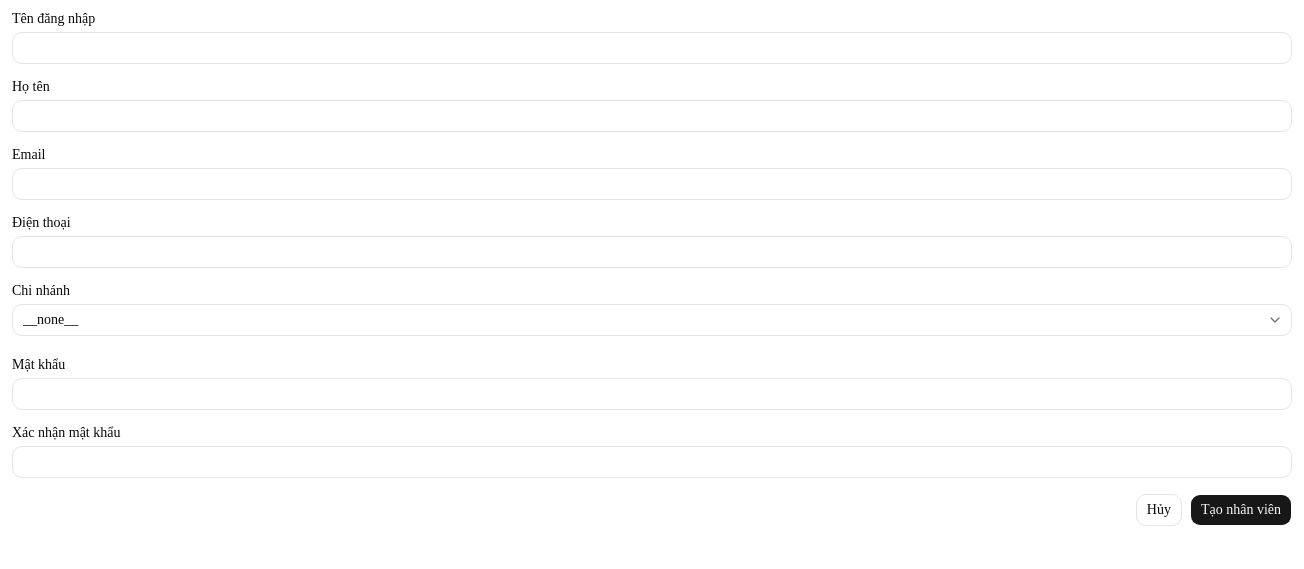
Test: UserCreateForm (T052.02C) › rejects a mismatched password confirmation
Type "staff01" into the field labelled "Tên đăng nhập" at (652, 48), box [12, 32, 1292, 64]
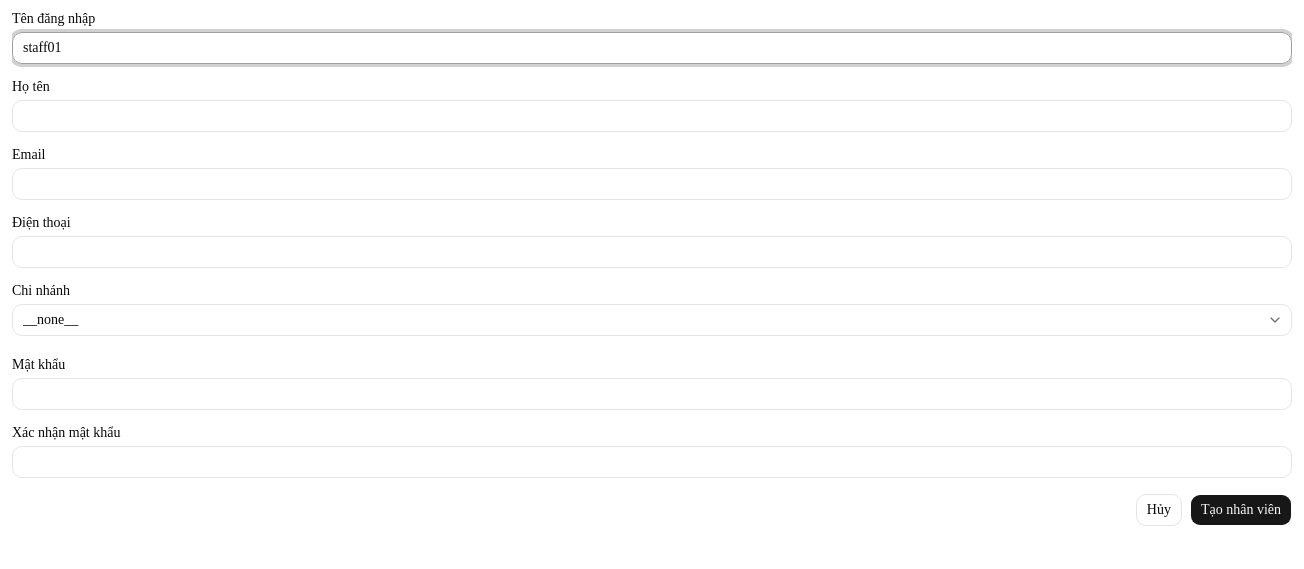
Type "staff01@acme.test" into the field labelled "Email" at (652, 184), box [12, 168, 1292, 200]
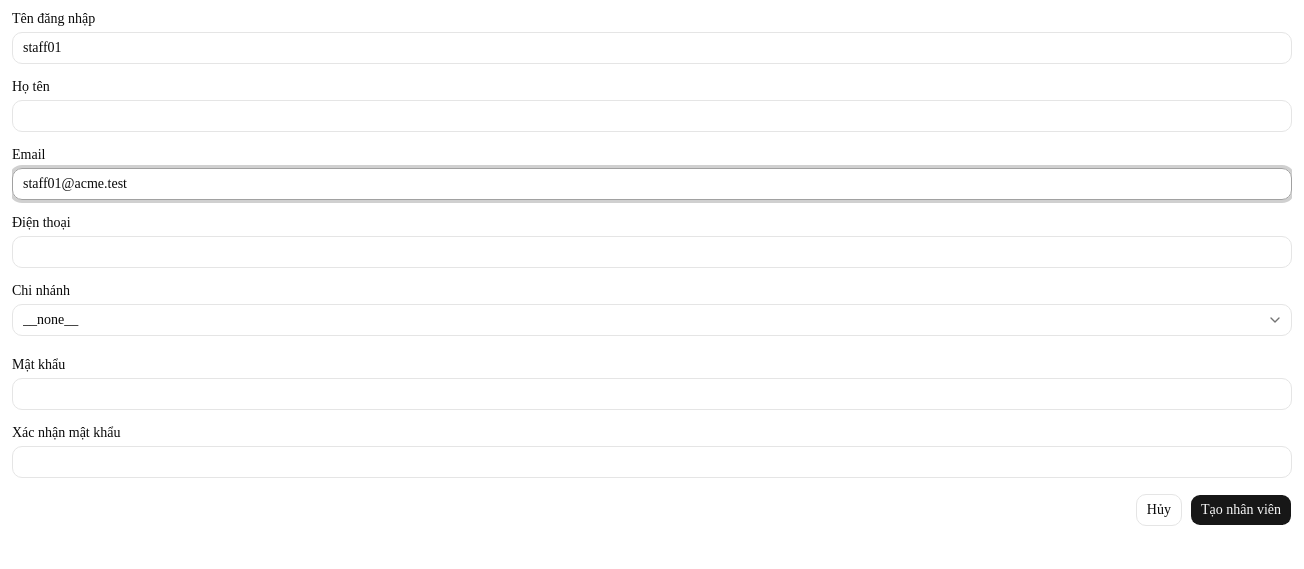
Type "Password123" into the password field labelled "Mật khẩu" at (652, 394), box [12, 378, 1292, 410]
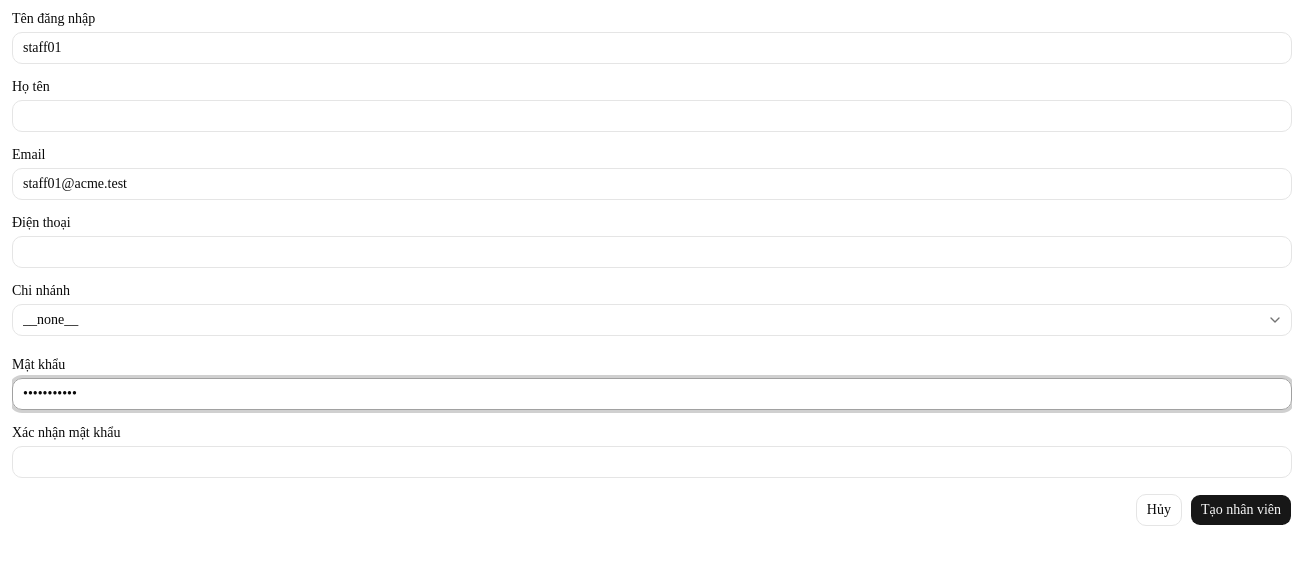
Type "Different123" into the password field labelled "Xác nhận mật khẩu" at (652, 462), box [12, 446, 1292, 478]
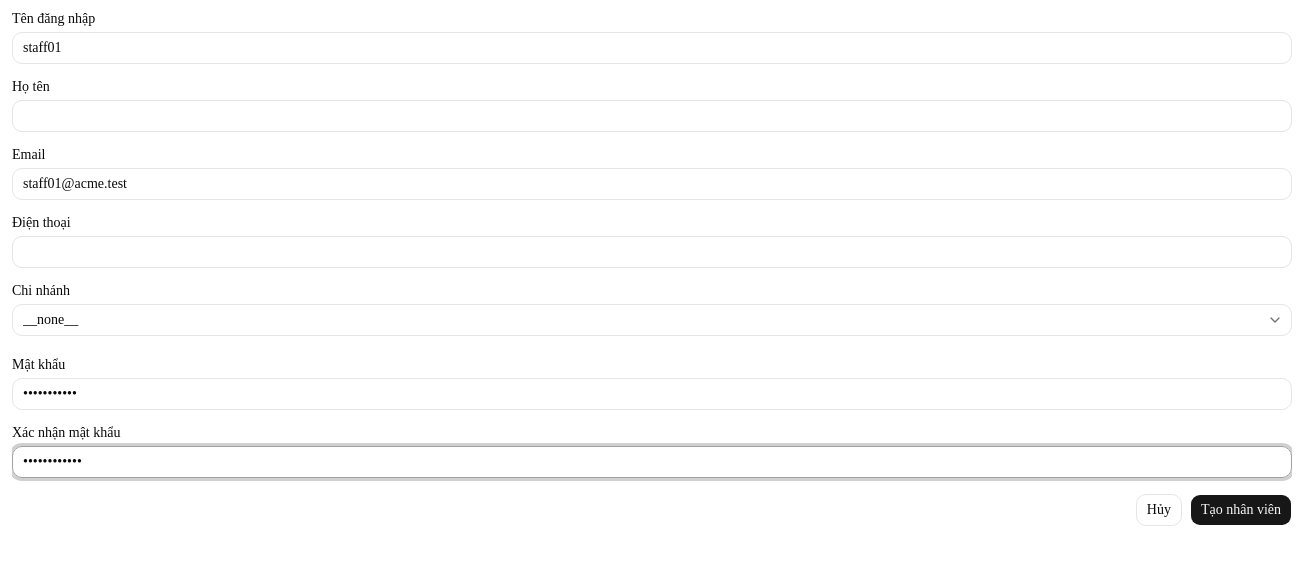
Click the button "Tạo nhân viên" at (1241, 510), box [1190, 494, 1292, 526]
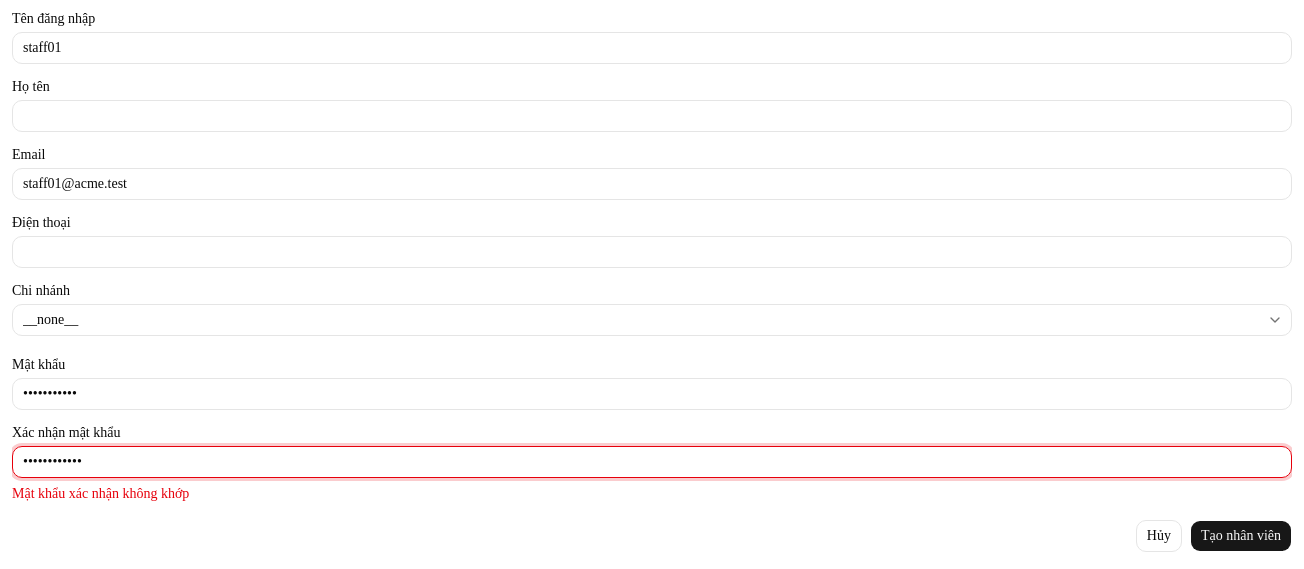
Expected: the text "Mật khẩu xác nhận không khớp" is shown, [12, 486, 189, 501]
